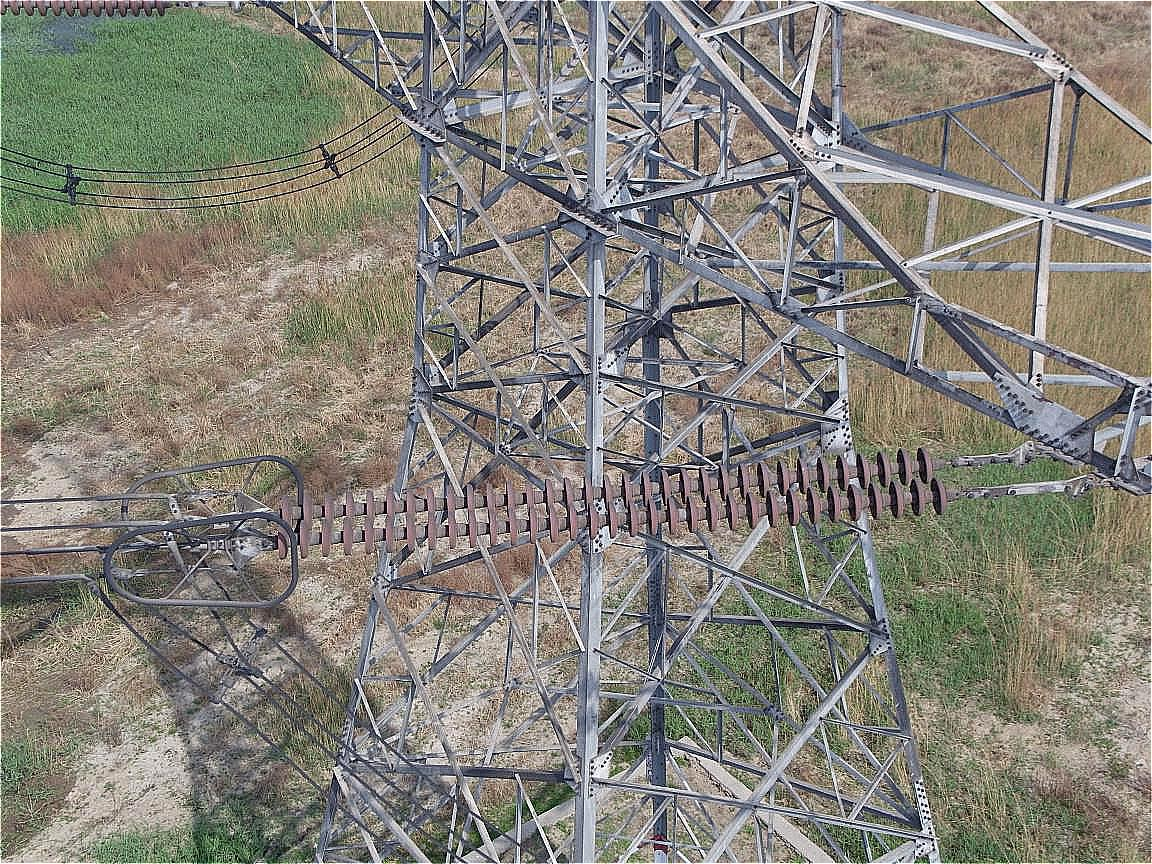insultor1: (276, 447, 950, 559)
